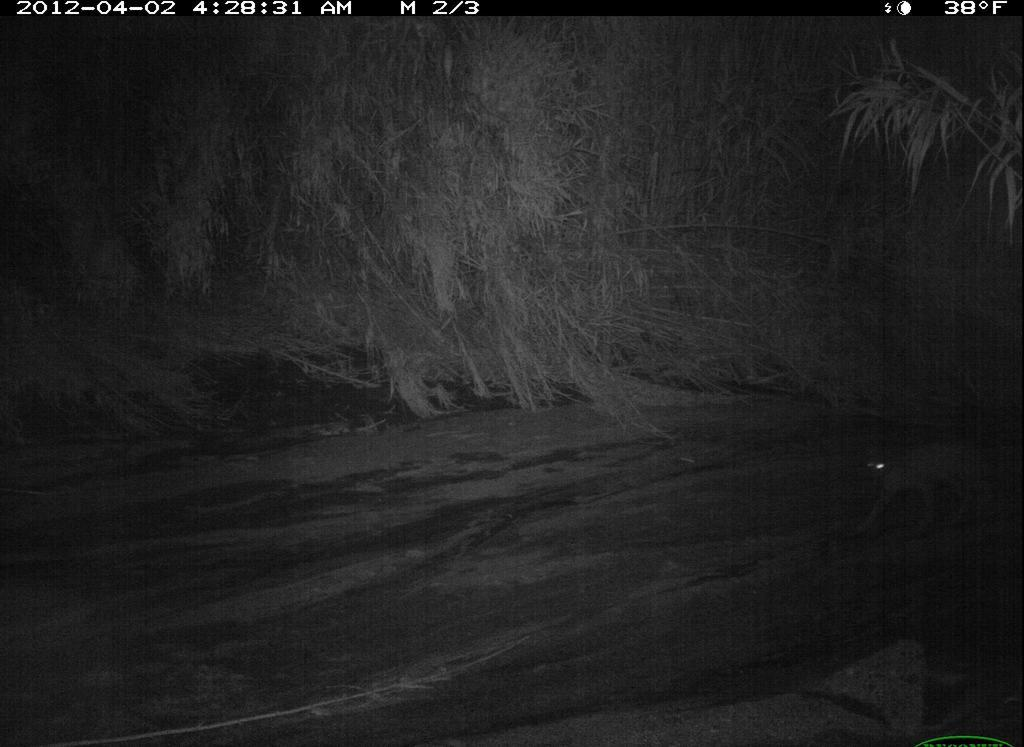bobcat: (838, 415, 1005, 557)
